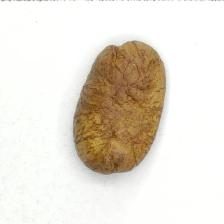NG: (89, 46, 152, 164)
